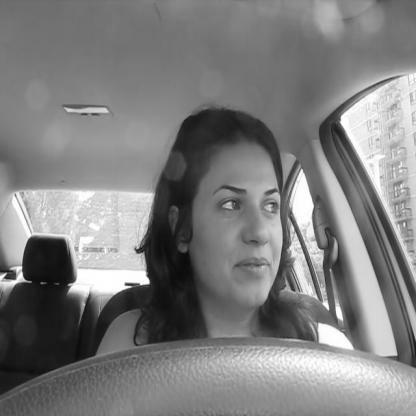no_seatbelt: (141, 81, 346, 416)
